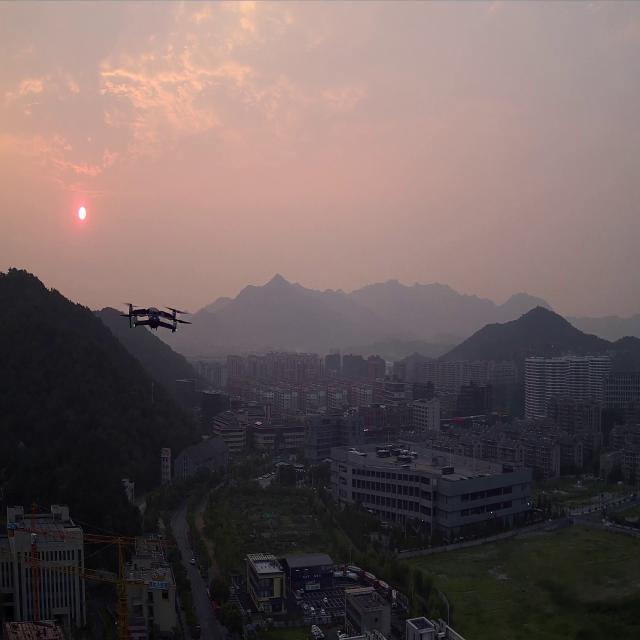UAV: (116, 297, 195, 334)
